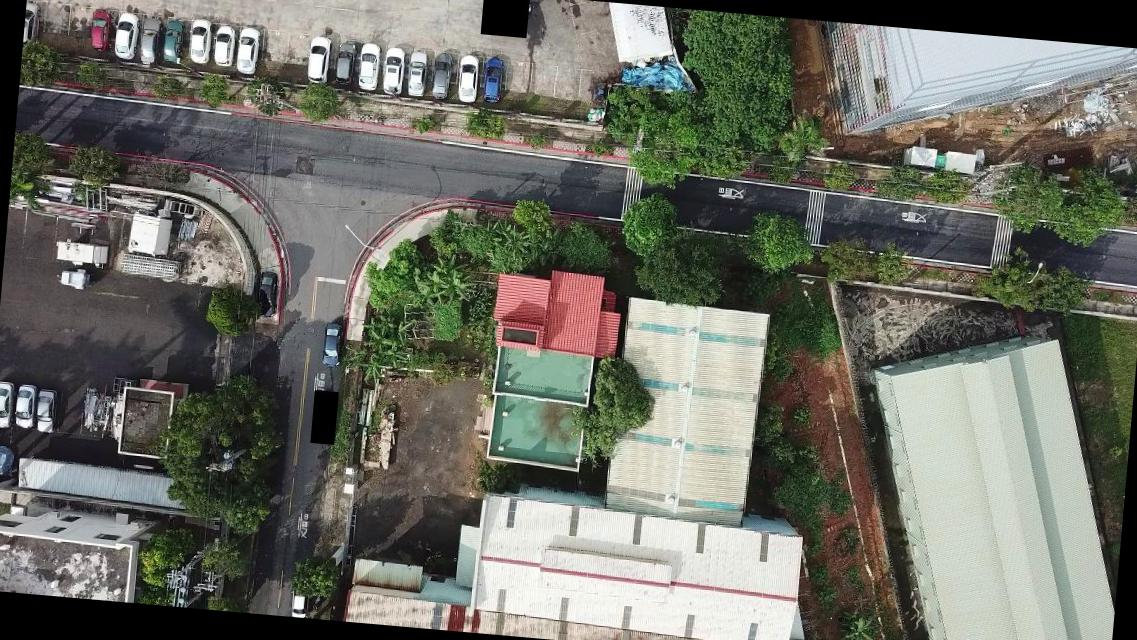vehicle: (352, 40, 382, 96), (454, 51, 482, 106), (304, 35, 332, 87), (112, 12, 140, 64), (380, 48, 406, 100), (480, 56, 506, 106), (428, 51, 454, 101), (185, 18, 212, 66), (32, 390, 60, 436), (235, 27, 260, 77), (255, 270, 280, 318), (136, 16, 160, 66), (210, 25, 236, 71), (405, 51, 429, 99), (334, 41, 358, 88), (318, 320, 341, 367), (14, 384, 36, 432), (90, 8, 112, 54), (163, 18, 184, 65), (287, 580, 312, 618), (22, 1, 40, 46), (0, 380, 14, 431)
